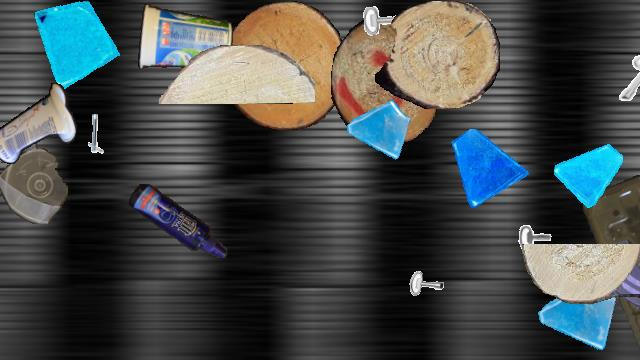glass: (33, 1, 125, 93), (536, 275, 620, 359), (449, 129, 529, 209), (345, 97, 413, 165), (554, 139, 622, 207), (590, 234, 640, 314)
metal: (357, 1, 417, 61), (403, 247, 455, 299), (65, 106, 115, 156), (516, 206, 562, 252), (615, 52, 640, 102), (0, 43, 4, 95)
plastic: (583, 149, 640, 359), (129, 184, 227, 258), (136, 1, 232, 71), (0, 81, 77, 167), (0, 135, 68, 223)
wood: (223, 1, 347, 129), (375, 1, 499, 109), (331, 20, 439, 142), (158, 45, 314, 103), (522, 244, 640, 304)
